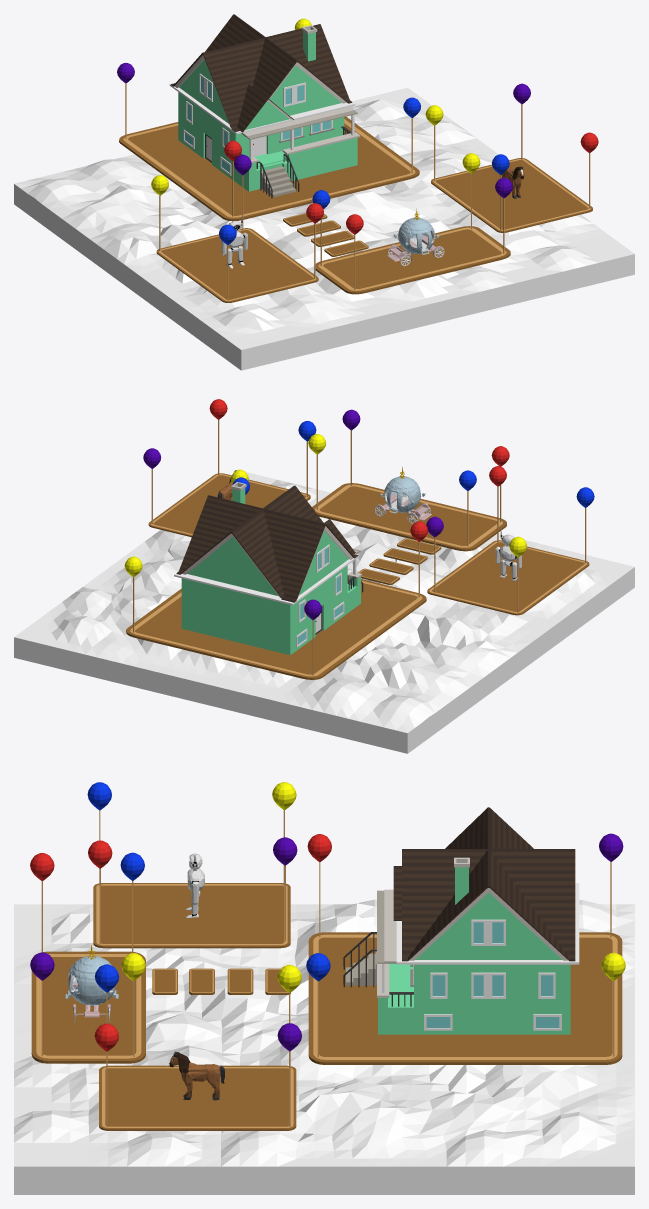
3 views of the same model, one above another, from view 1: azimuth 30°, elevation 25°; view 2: azimuth 150°, elevation 25°; view 3: azimuth 270°, elevation 25° (orthographic). The views are drawn at different scales.
Parts seen in each view (by area): view 1: Cube.013, Cube.352, VEHICLES_FANTASY_CARRIAGE, OBJRANDOM_PLATZEEBOT; view 2: Cube.013, Cube.352, VEHICLES_FANTASY_CARRIAGE, OBJRANDOM_PLATZEEBOT; view 3: Cube.013, Cube.352, VEHICLES_FANTASY_CARRIAGE, ANIMAL_CABALLO, OBJRANDOM_PLATZEEBOT.
Part boxes in pixels (x1,y1,x2,y2): Cube.013: [14, 18, 634, 370]; Cube.352: [169, 14, 360, 198]; VEHICLES_FANTASY_CARRIAGE: [387, 208, 444, 266]; OBJRANDOM_PLATZEEBOT: [221, 216, 247, 268]; Cube.013: [14, 399, 634, 753]; Cube.352: [174, 482, 363, 655]; VEHICLES_FANTASY_CARRIAGE: [374, 467, 431, 524]; OBJRANDOM_PLATZEEBOT: [495, 530, 521, 580]; Cube.013: [14, 782, 634, 1194]; Cube.352: [343, 807, 579, 1034]; VEHICLES_FANTASY_CARRIAGE: [65, 945, 118, 1021]; ANIMAL_CABALLO: [169, 1051, 224, 1100]; OBJRANDOM_PLATZEEBOT: [186, 853, 204, 918].
Size of the model in its own units: 4000 by 1691 by 4000.
Materials: 32 (1 with a texture image).
